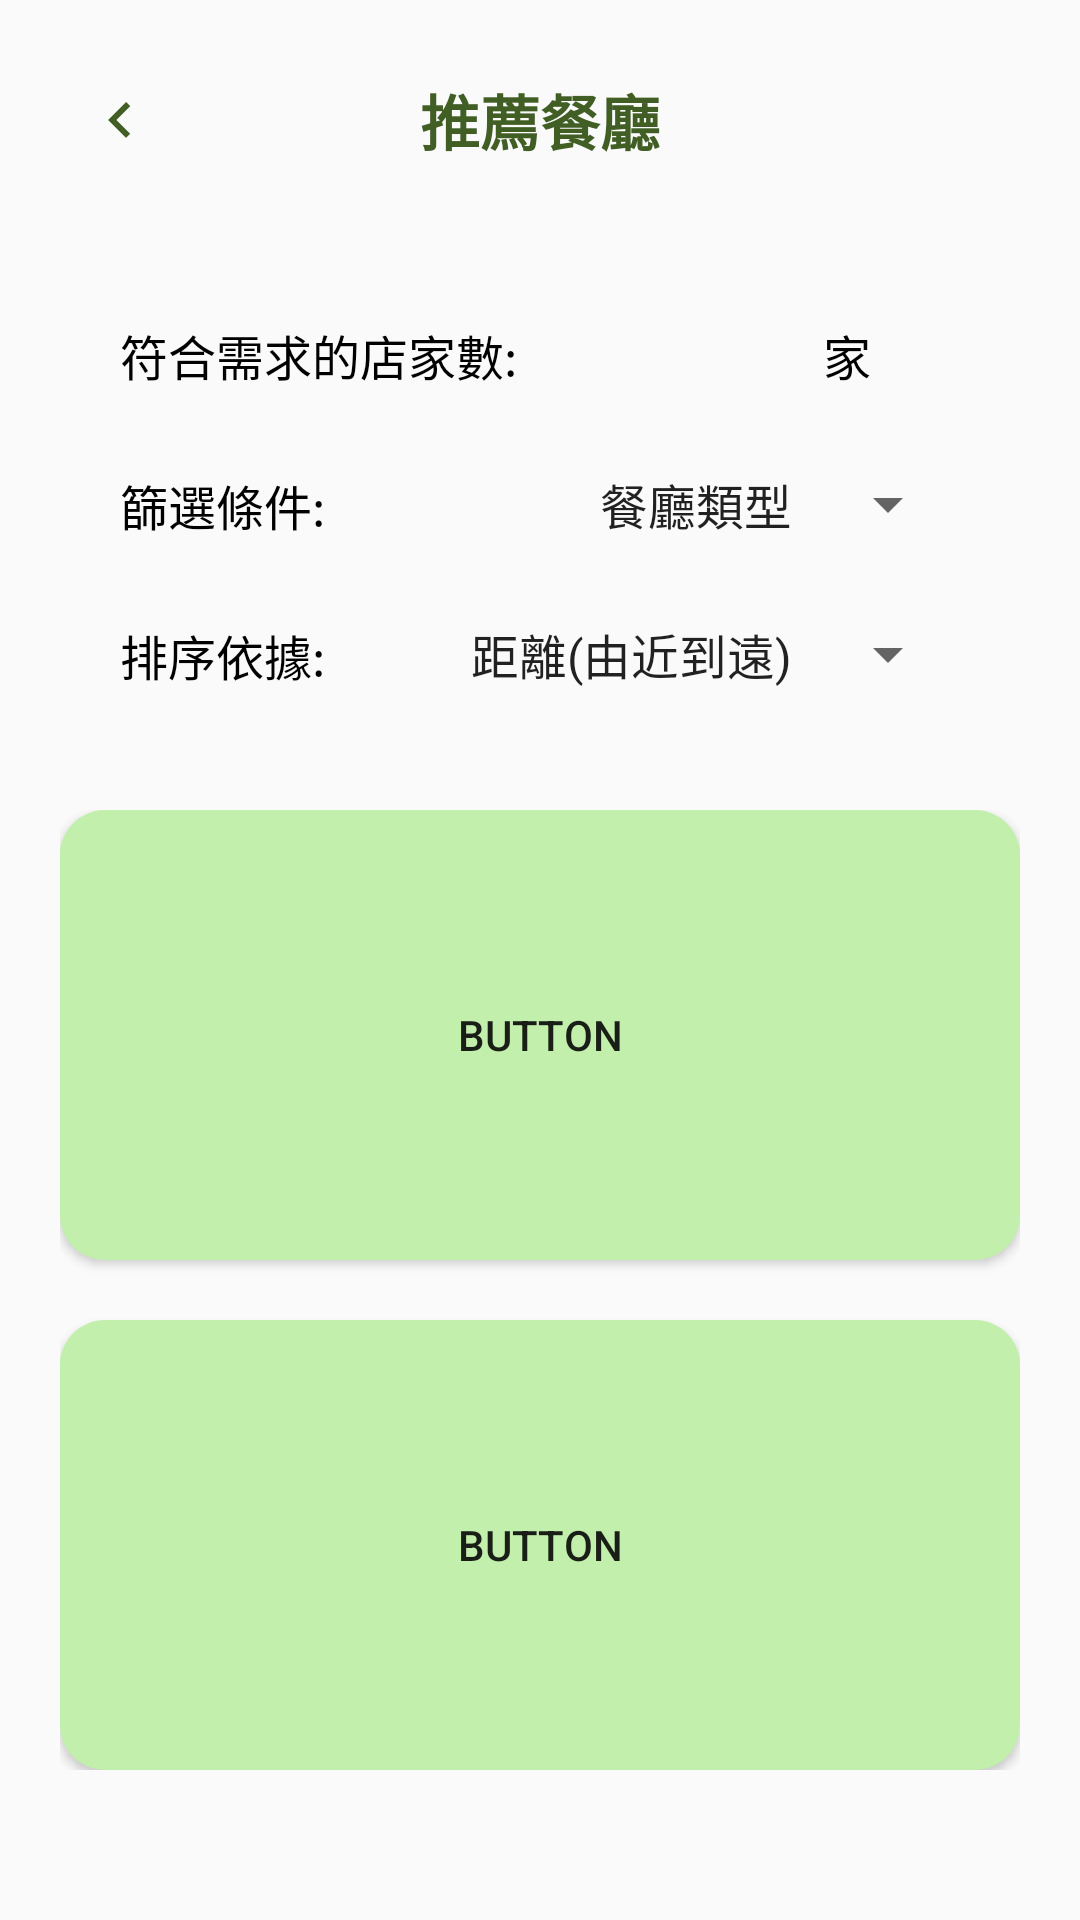

Where to tap for icons on this 1080px×1920px app screen, as (x,y):
keyboard arrow left: (119,120)
